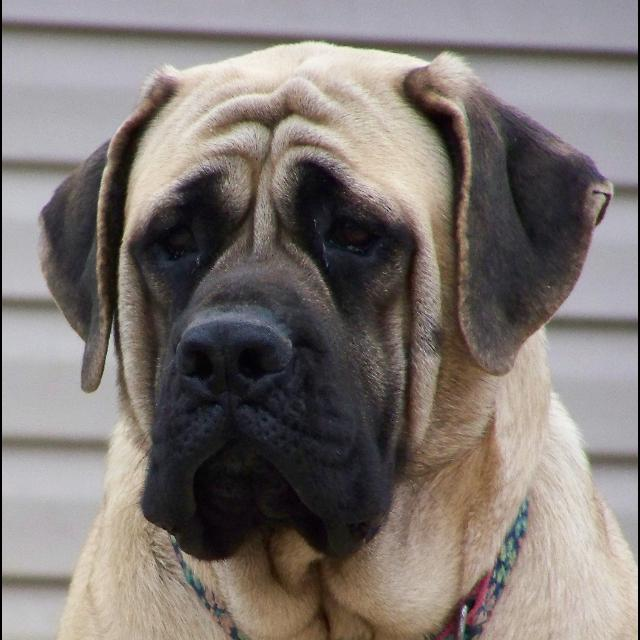mastiff: (38, 40, 638, 640)
